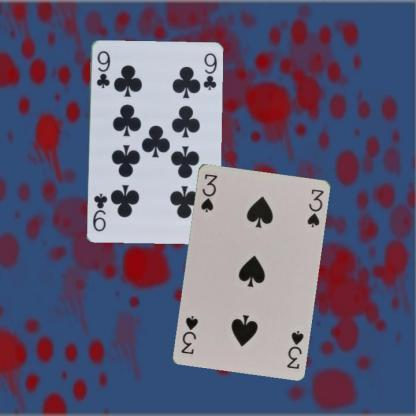3s: (284, 327, 304, 370), (198, 171, 218, 213)
9c: (94, 48, 112, 90)
